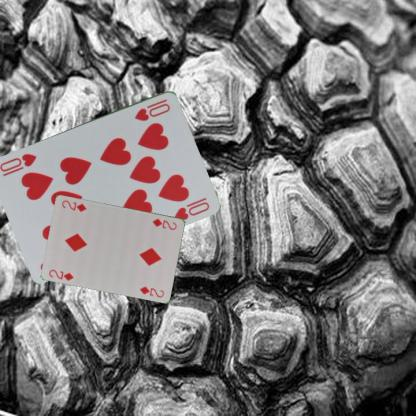10h: (132, 96, 172, 122)
2d: (46, 267, 75, 282), (150, 216, 178, 231)
